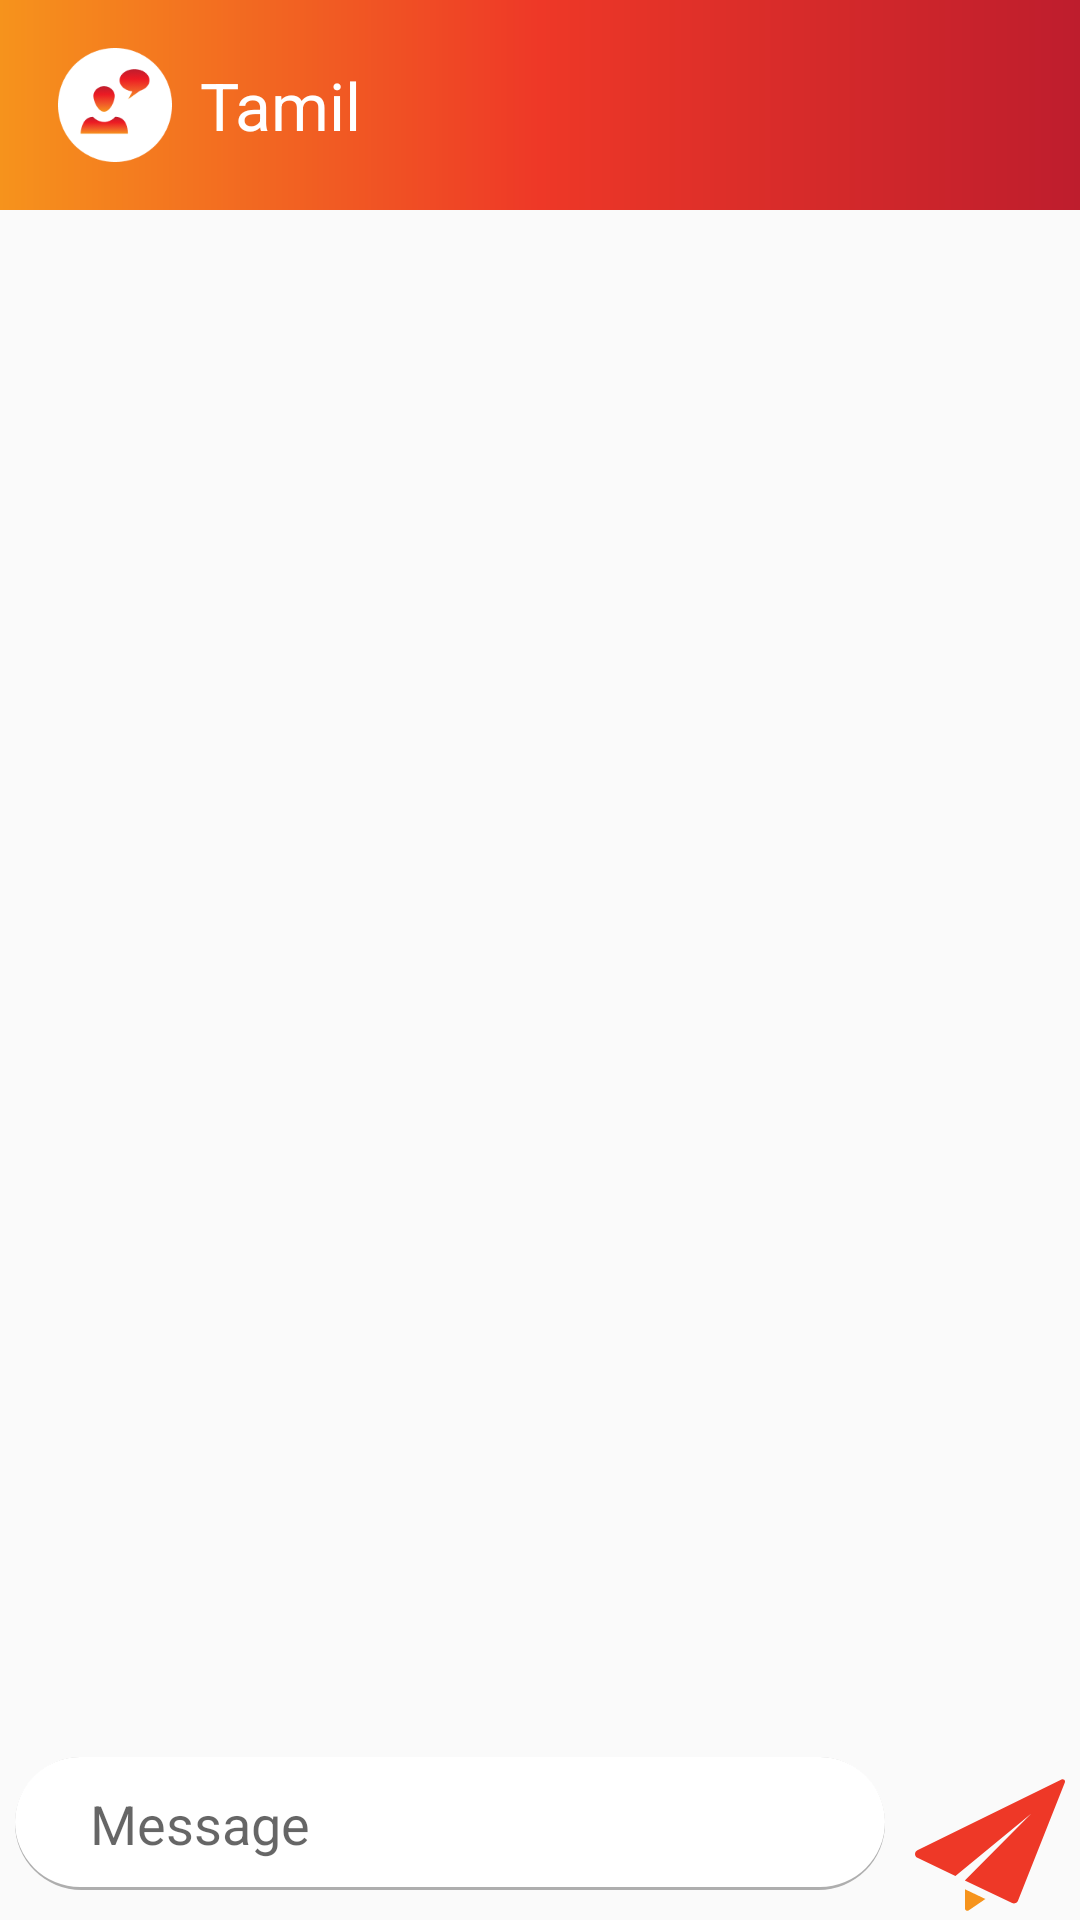

Where to tap for icons on this 1080×1920 app screen, as [x,y]:
send: [990,1845]
